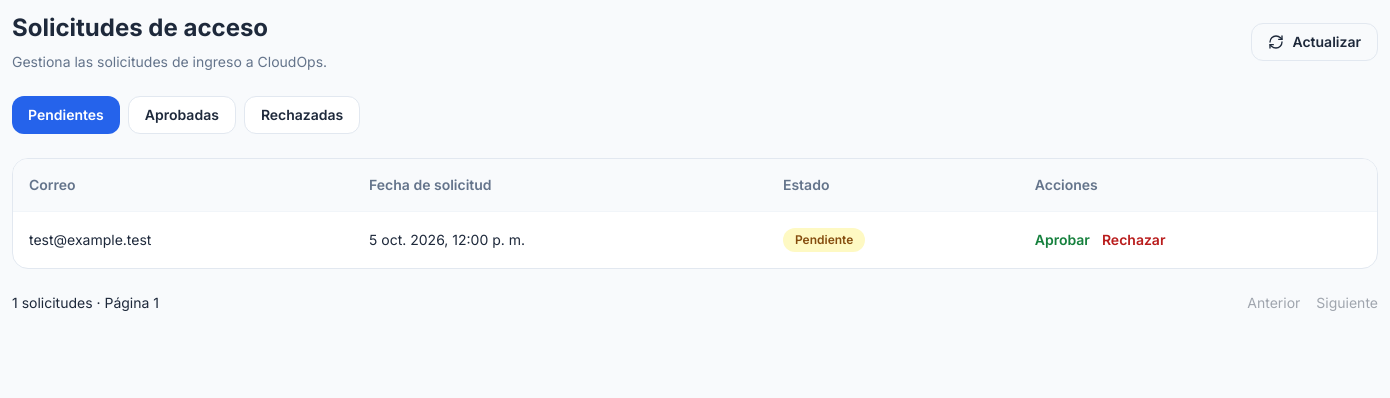
Test case: Admin request actions › shows server errors without claiming successful approval
Click the button "Aprobar" at {"x": 1062, "y": 240}, box [1035,230,1090,250]
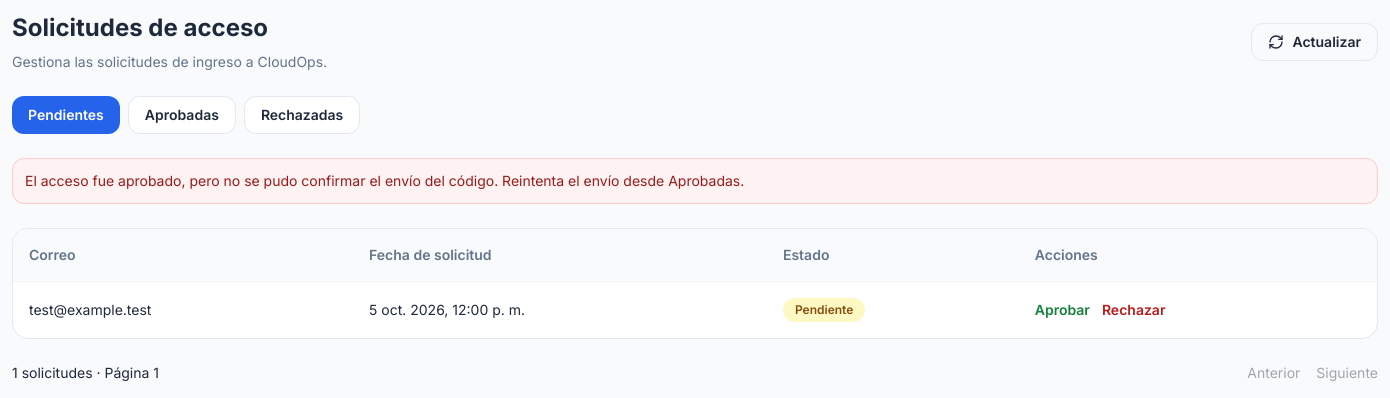
Expected: the message shows "El acceso fue aprobado, pero no se pudo confirmar el envío del código. Reintenta el envío desde Aprobadas.", [25,172,744,189]
